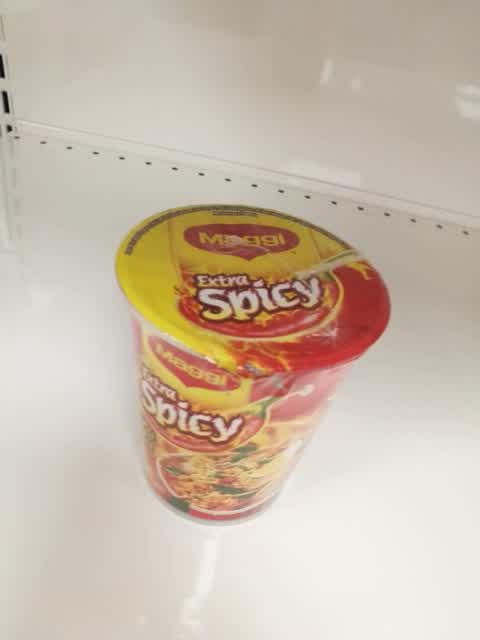maggi: (111, 203, 392, 529)
